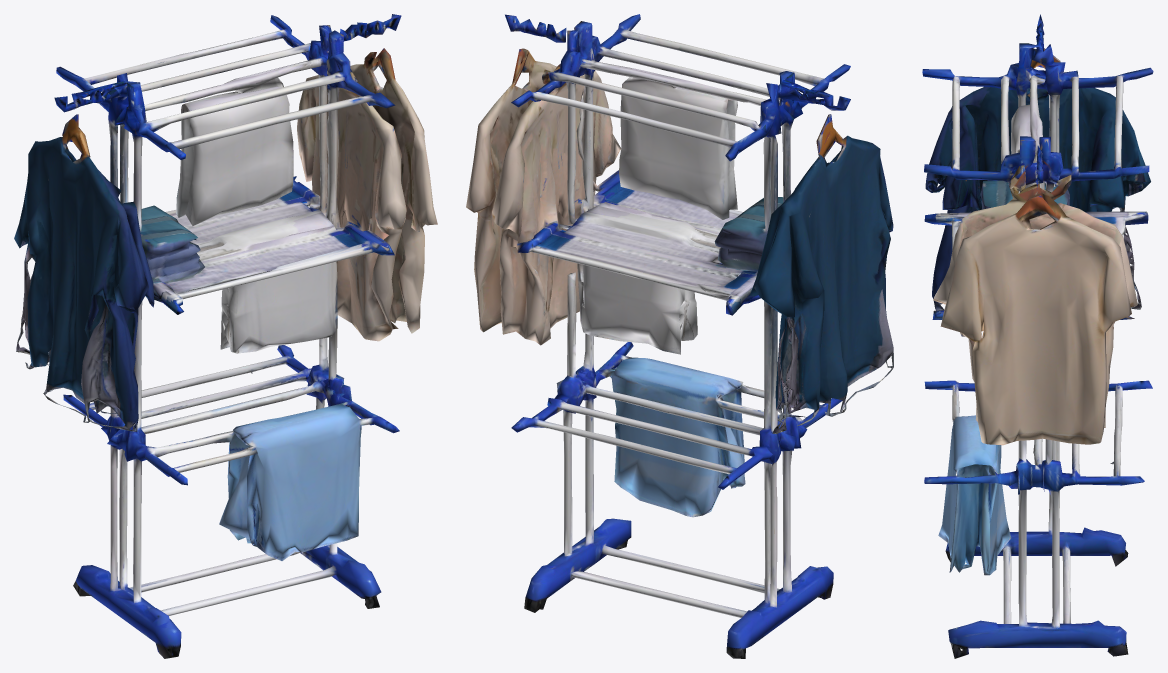
3 renders of one model, left to right at view 1: azimuth 30°, elevation 25°; view 2: azimuth 150°, elevation 25°; view 3: azimuth 270°, elevation 25°, orthographic. The views are drawn at different scales.
Parts seen in each view (by area): view 1: Mesh_0; view 2: Mesh_0; view 3: Mesh_0.
Part boxes in pixels (bbox=[...]): Mesh_0: bbox=[14, 14, 437, 658]; Mesh_0: bbox=[466, 14, 893, 658]; Mesh_0: bbox=[922, 14, 1153, 658].
Size of the model in its own units: 1.14 by 1.7 by 0.6859.
1 material, 1 textured.
